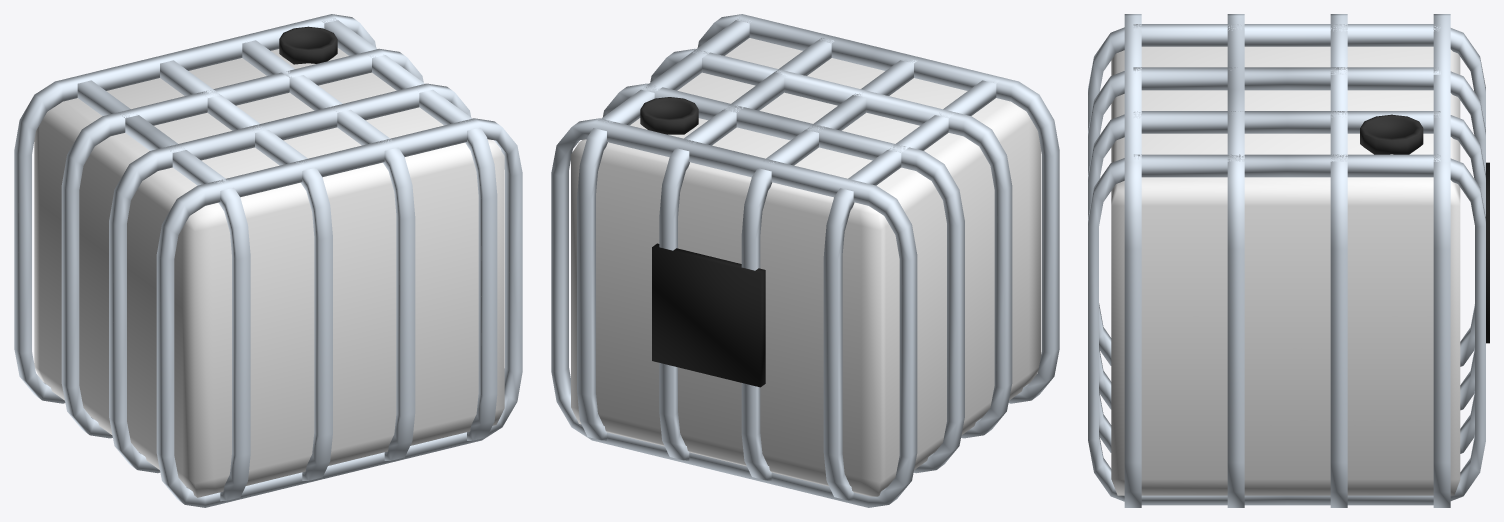
Rendered from PACK LIXO.fbx.
The picture shows the model from 3 angles, left to right: view 1: azimuth 30°, elevation 25°; view 2: azimuth 150°, elevation 25°; view 3: azimuth 270°, elevation 25°; orthographic projection. The views are drawn at different scales.
Visible parts, largest first — view 1: Cube.023; view 2: Cube.023; view 3: Cube.023.
Boxes of the visible parts, x1,y1,x2,y2 form: Cube.023: [14, 14, 522, 507]; Cube.023: [551, 14, 1059, 507]; Cube.023: [1088, 14, 1489, 507].
Size of the model in its own units: 436 by 376 by 390.
